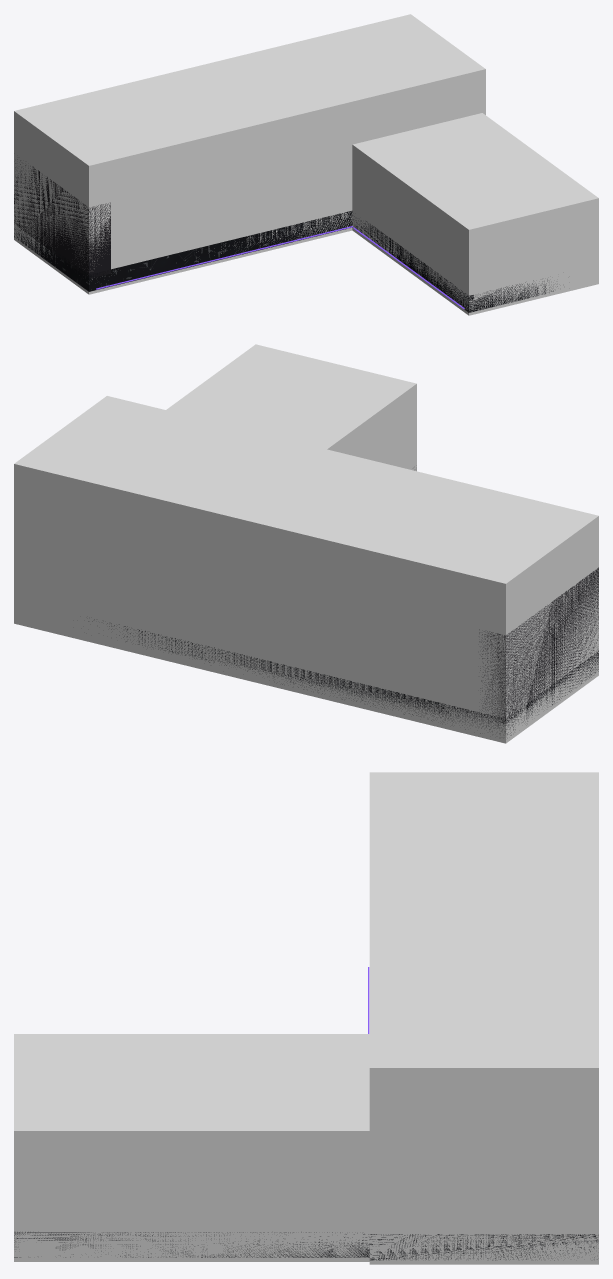
Rendered from Furn_Sofa_L.gltf.
The picture shows the model from 3 angles, top to bottom: view 1: azimuth 30°, elevation 25°; view 2: azimuth 150°, elevation 25°; view 3: azimuth 270°, elevation 25°; orthographic projection. The views are drawn at different scales.
Parts seen in each view (by area): view 1: Furn_Sofa_L_COL, Furn_Sofa_L_COL1, Furn_Sofa_L; view 2: Furn_Sofa_L_COL, Furn_Sofa_L_COL1, Furn_Sofa_L; view 3: Furn_Sofa_L_COL, Furn_Sofa_L_COL1, Furn_Sofa_L.
Part boxes in pixels (box(x1,y1,x2,y2)): Furn_Sofa_L_COL: box(14, 14, 485, 294); Furn_Sofa_L_COL1: box(352, 113, 598, 315); Furn_Sofa_L: box(14, 159, 557, 312); Furn_Sofa_L_COL: box(14, 396, 598, 743); Furn_Sofa_L_COL1: box(166, 344, 416, 471); Furn_Sofa_L: box(88, 567, 598, 738); Furn_Sofa_L_COL: box(369, 772, 598, 1264); Furn_Sofa_L_COL1: box(14, 1034, 369, 1261); Furn_Sofa_L: box(14, 967, 598, 1260).
Size of the model in its own units: 2.9 by 0.9 by 2.43.
Materials: 4 (1 with a texture image).
